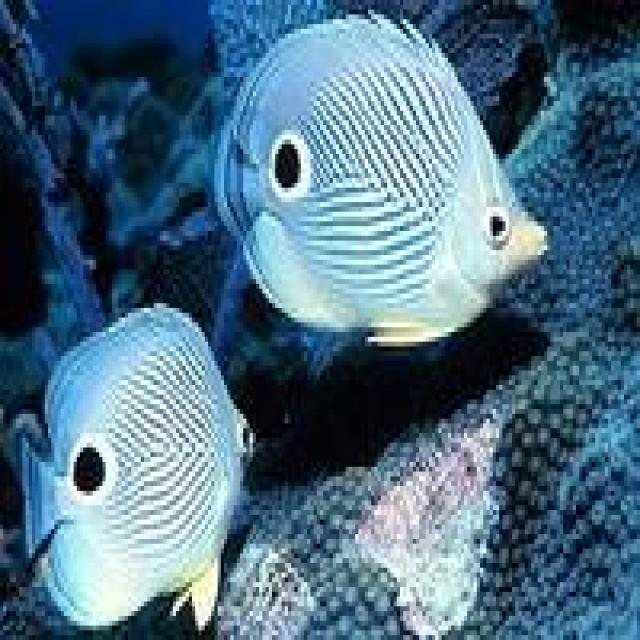ButterflyFish: (213, 9, 551, 348), (23, 304, 254, 633)
